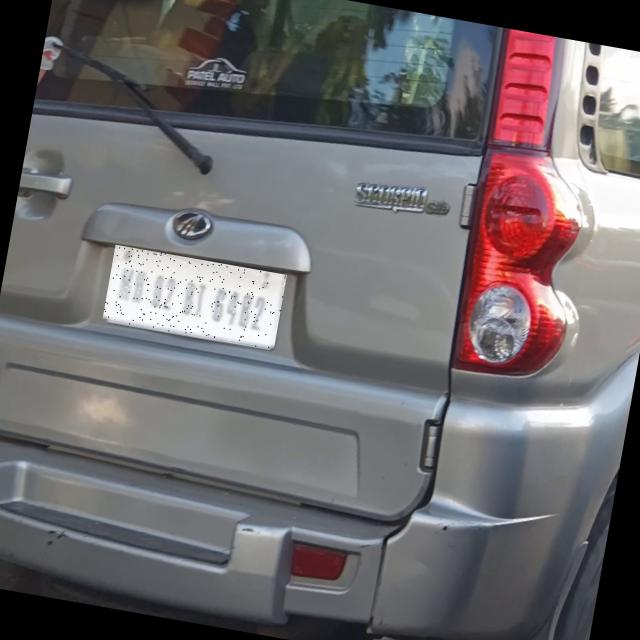Plate: (103, 246, 288, 351)
